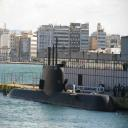submarine: (8, 39, 118, 113)
